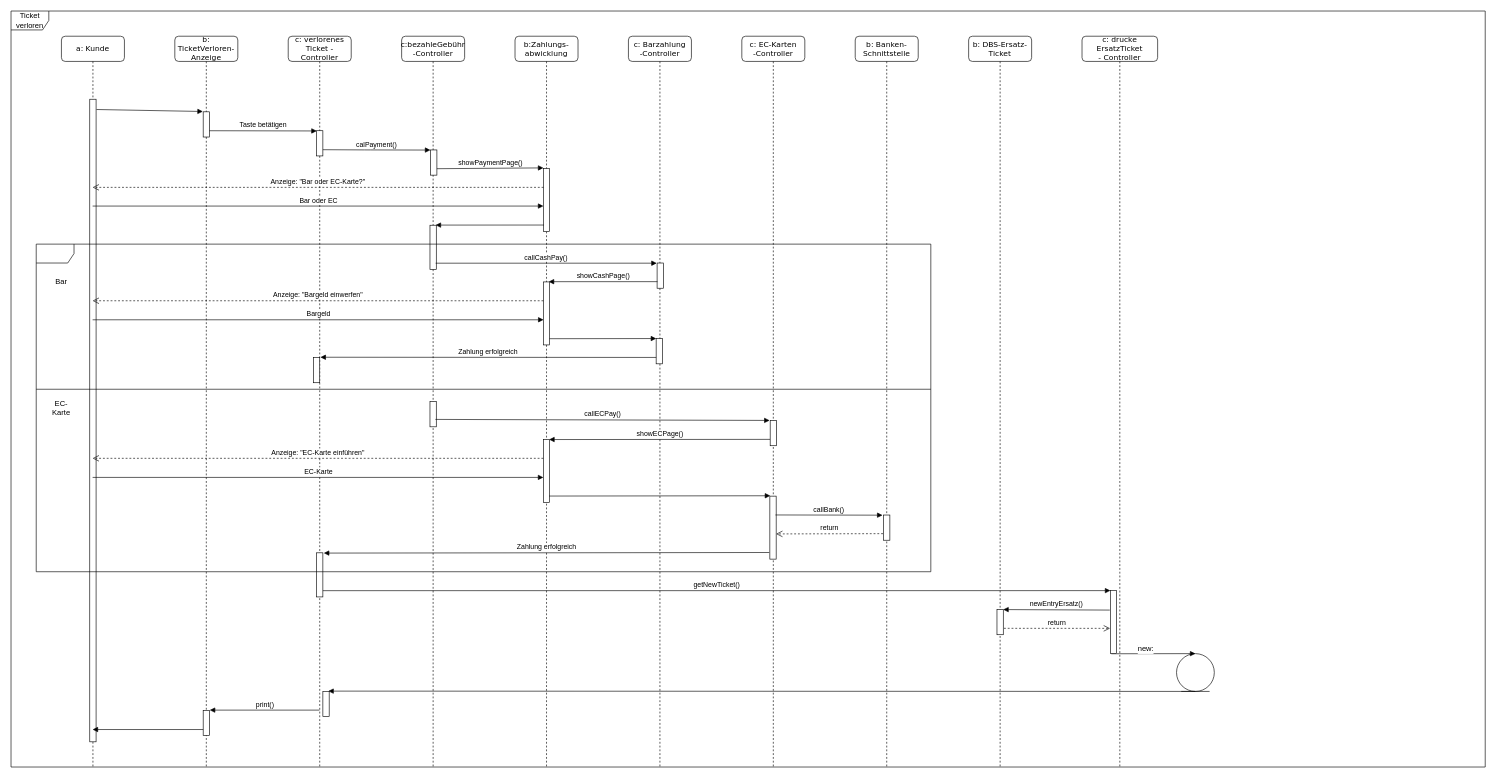
This 1496x778 diagram has some shape labels left out. The shapes that lost their labels are listed below. From the top down, each one's centre as x and y in pixels, then its label:
point (483, 407): Abo verloren
point (1195, 672): Ticket
